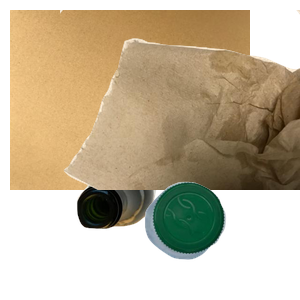cardboard: (10, 10, 250, 190)
glass: (74, 158, 223, 300)
plastic: (142, 179, 300, 300)
trash: (60, 10, 300, 190)
